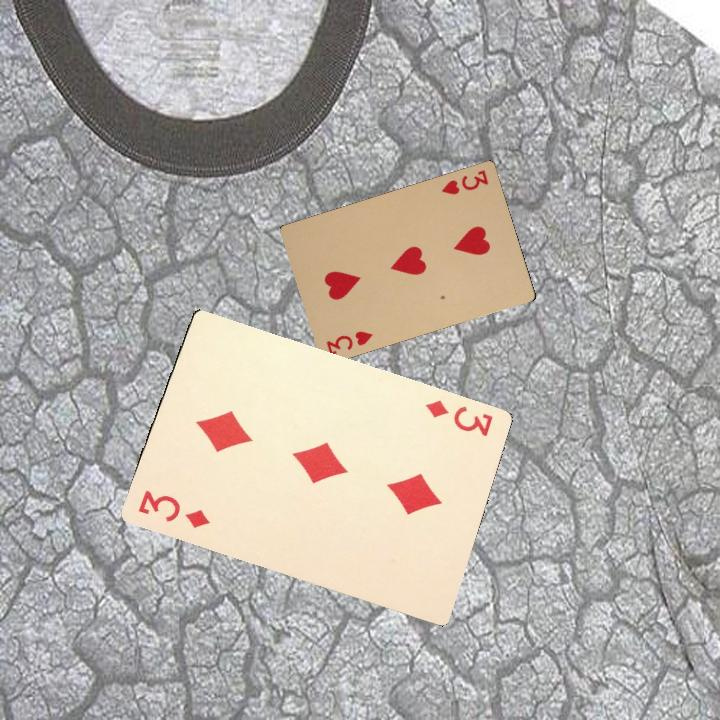3d: (134, 486, 213, 531), (421, 396, 496, 439)
3h: (437, 166, 491, 197), (322, 327, 375, 358)
